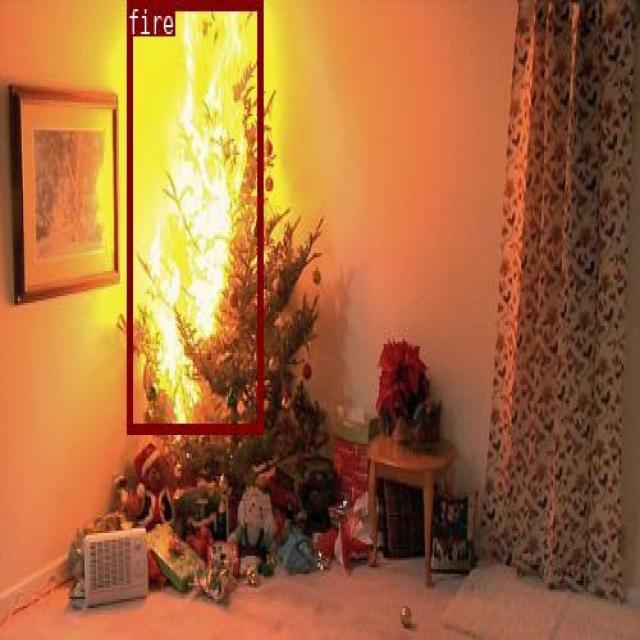fire: (125, 0, 261, 430)
